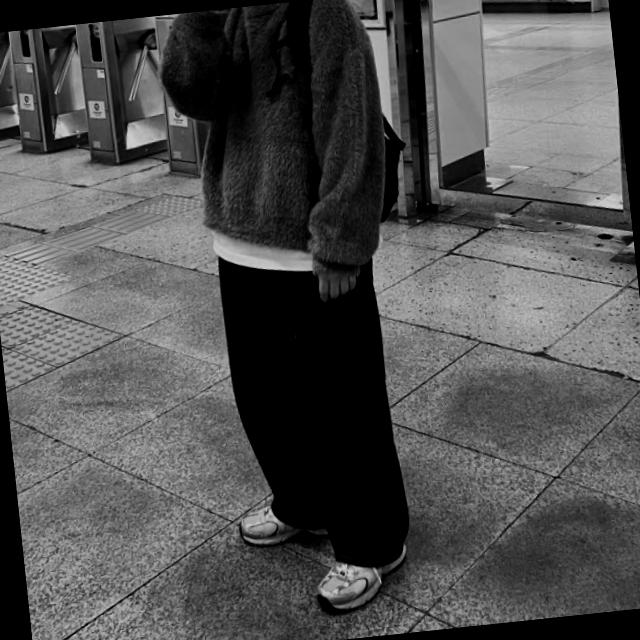denimpants: (212, 238, 413, 579)
sweater: (153, 0, 399, 290)
